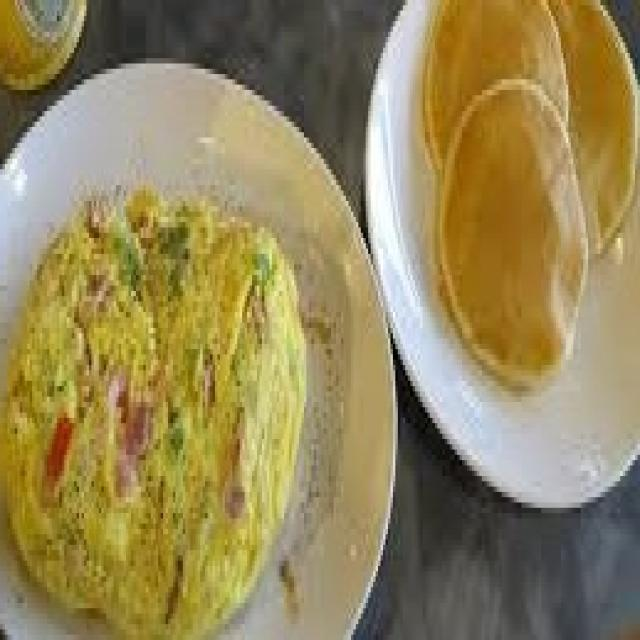Omelette: (2, 180, 312, 635)
Pancakes: (433, 1, 636, 388)
